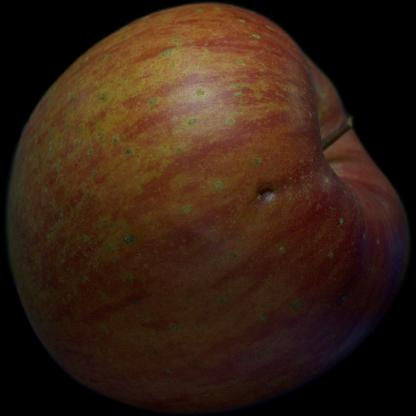defect: (228, 136, 310, 248)
